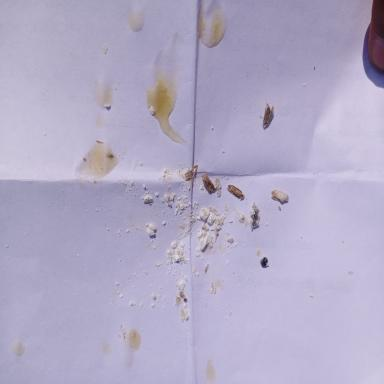pbw: (261, 98, 274, 128), (250, 204, 260, 232), (227, 184, 245, 199), (270, 189, 288, 204), (202, 174, 215, 193), (184, 164, 199, 180)
